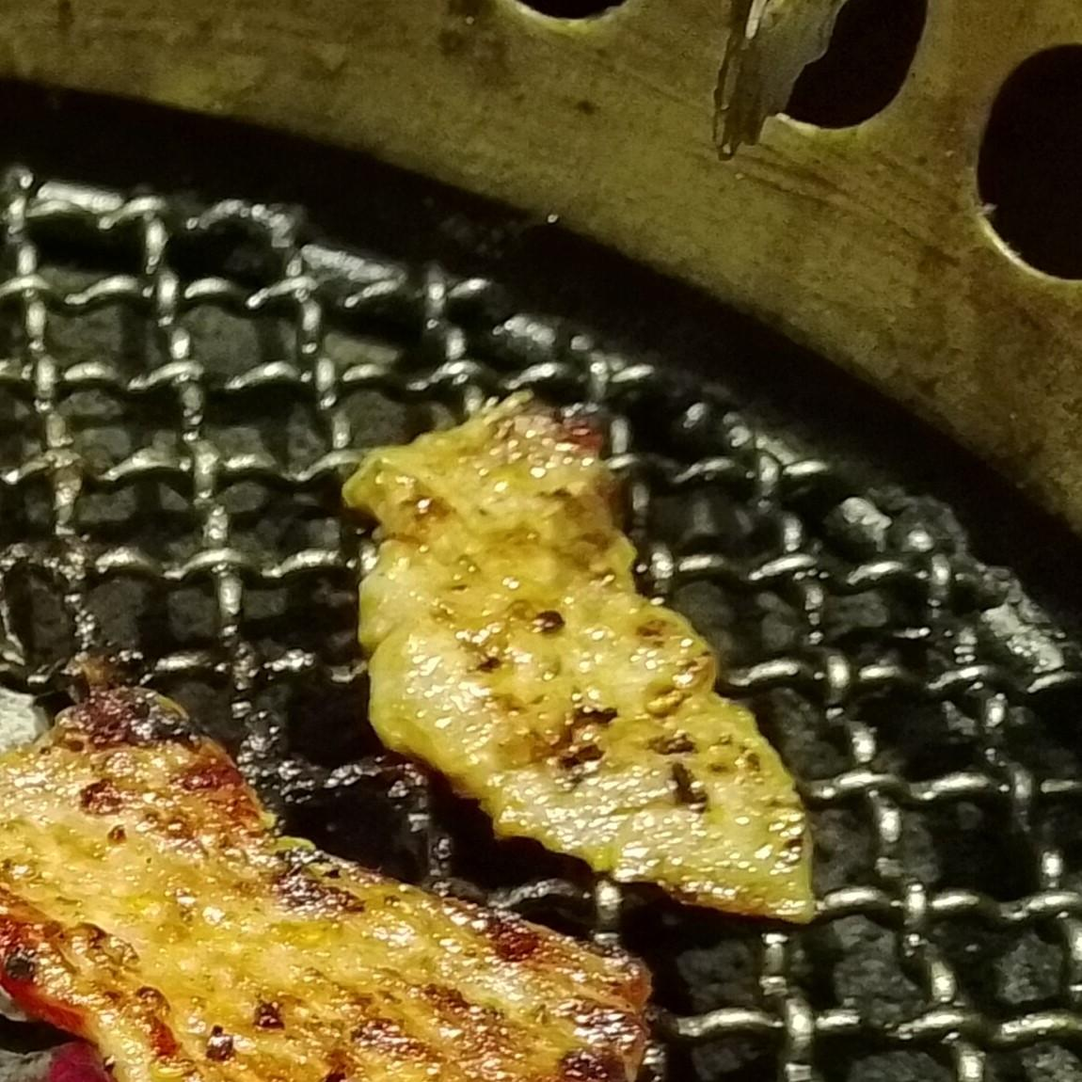Overcooked: (0, 682, 674, 1081)
Well-Cooked: (341, 399, 822, 934)
